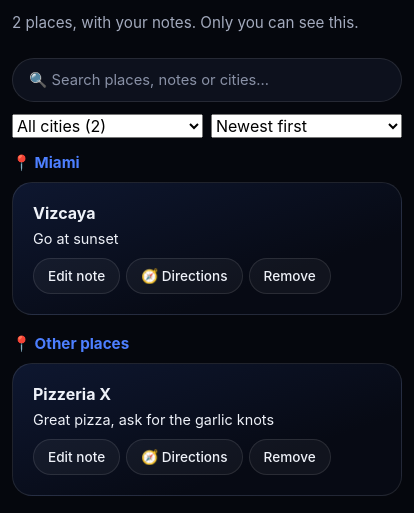
Test: Favorites list › filters by city and sorts A to Z
Select "Miami (1)" in the dropdown named "Filter by city" at (108, 126), box [12,114,203,138]
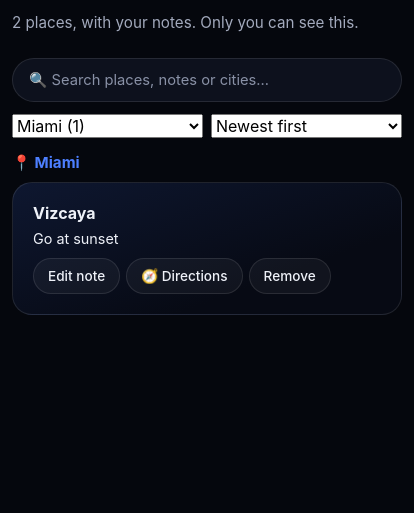
Check: the text "Vizcaya" is shown, box [33,203,96,223]
Check: the text "Pizzeria X" is gone
